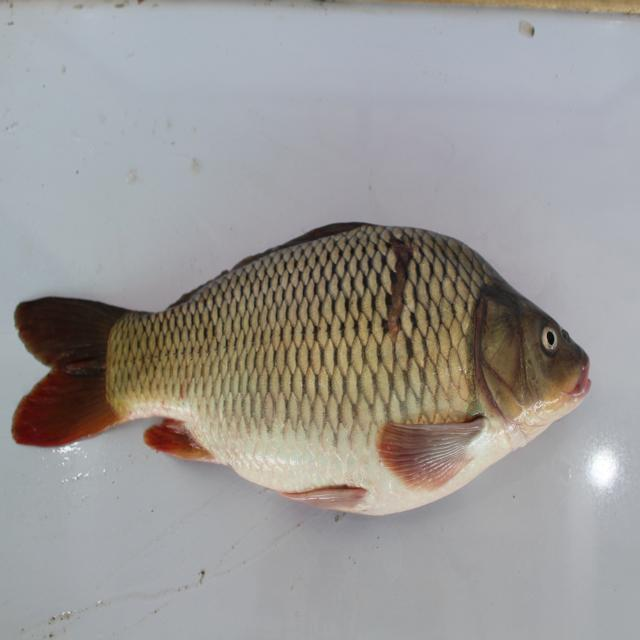CommonCarp: (8, 210, 606, 535)
